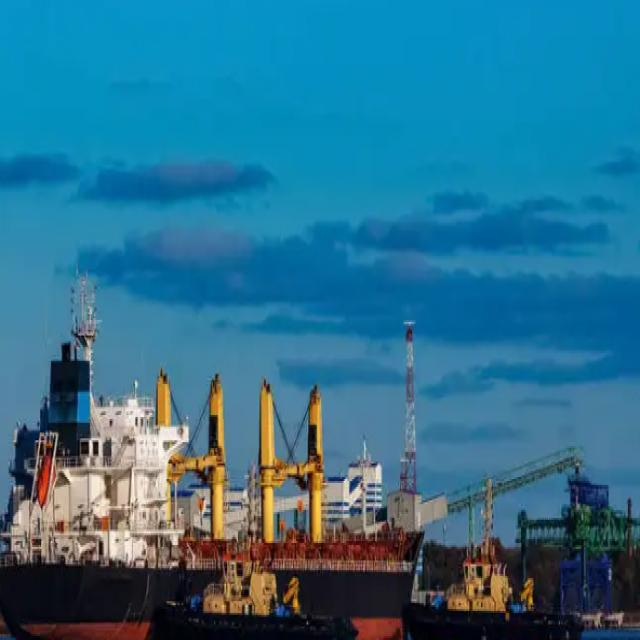cargoship: (0, 262, 423, 640), (408, 539, 586, 640)
